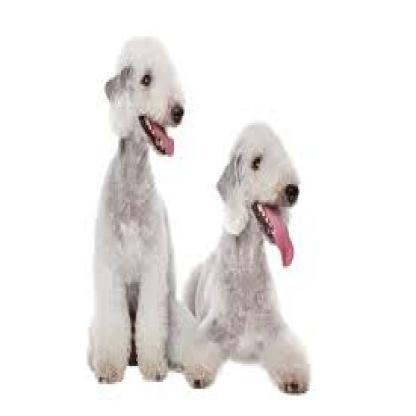Bedlington Terrier: (197, 78, 331, 410), (80, 38, 199, 357)
